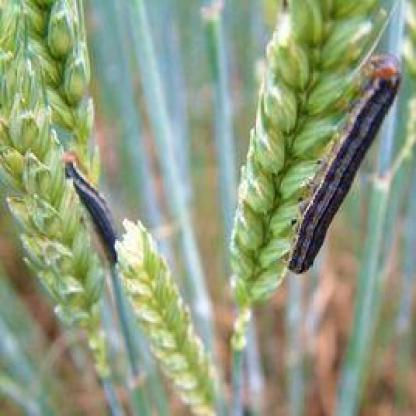armyworm: (280, 44, 402, 286), (62, 150, 125, 269)
